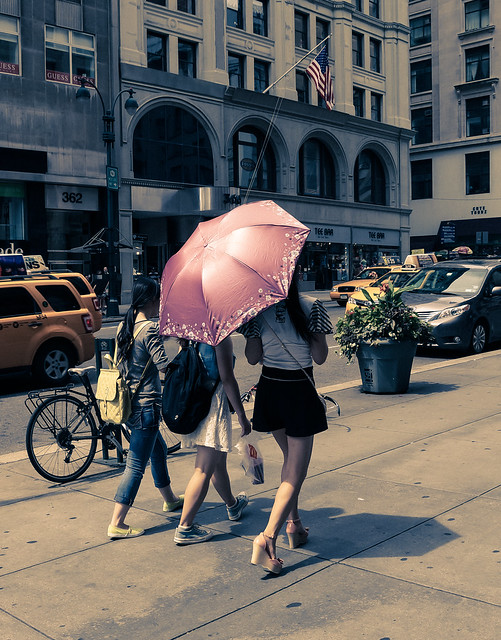backpack: (246, 293, 332, 537), (118, 302, 204, 537), (155, 317, 267, 454), (150, 261, 244, 413), (159, 331, 237, 509), (194, 341, 322, 435), (186, 331, 258, 498), (121, 333, 222, 450), (119, 316, 181, 478), (254, 303, 325, 434), (106, 289, 156, 425), (177, 338, 241, 437), (156, 337, 216, 434), (119, 284, 178, 378), (246, 336, 311, 420), (248, 303, 314, 382), (142, 328, 196, 418), (204, 336, 252, 435), (280, 299, 328, 394), (116, 319, 162, 397), (111, 301, 146, 378), (137, 326, 177, 388), (119, 316, 150, 368), (193, 342, 220, 394), (103, 317, 128, 371), (114, 310, 137, 366), (147, 334, 182, 370), (307, 317, 329, 367), (307, 299, 333, 336), (243, 443, 263, 486), (115, 322, 130, 363), (243, 337, 262, 366)
baseball bat: (238, 442, 263, 486)
bench: (14, 368, 192, 479), (90, 430, 175, 474), (330, 268, 419, 306), (114, 431, 169, 464)
bicycle: (2, 351, 247, 460), (57, 328, 214, 491), (102, 277, 177, 539), (23, 364, 165, 485), (10, 321, 115, 465), (74, 354, 185, 468), (40, 355, 128, 455), (22, 369, 89, 424), (331, 269, 412, 306), (89, 276, 108, 318), (96, 285, 108, 317)
boat: (0, 255, 50, 281)
bus: (156, 196, 309, 340), (1, 272, 101, 381), (391, 262, 499, 354), (433, 219, 499, 255), (0, 254, 50, 281), (401, 254, 434, 270)
car: (41, 336, 190, 498), (0, 292, 167, 405), (332, 254, 456, 387), (11, 297, 114, 442), (20, 353, 127, 479), (327, 250, 498, 319), (361, 265, 479, 360), (0, 274, 99, 385), (407, 261, 501, 355), (329, 277, 429, 361), (345, 270, 457, 324), (372, 250, 485, 299), (397, 269, 467, 346), (332, 260, 439, 309), (394, 264, 488, 317), (28, 268, 103, 333), (3, 254, 99, 299), (2, 276, 92, 320), (69, 278, 115, 358), (78, 310, 126, 373), (95, 298, 136, 370), (328, 268, 403, 306), (111, 296, 147, 375), (62, 275, 102, 335), (354, 254, 433, 281), (358, 269, 431, 298), (400, 244, 484, 269), (398, 264, 469, 293), (14, 261, 90, 288), (384, 269, 452, 298), (44, 271, 101, 301), (392, 252, 462, 276), (394, 257, 441, 291), (378, 260, 428, 291), (92, 319, 122, 368), (329, 279, 380, 307), (102, 314, 129, 366), (329, 268, 379, 296), (113, 310, 135, 368), (0, 255, 50, 280), (354, 273, 393, 303), (78, 287, 102, 333), (357, 264, 415, 283), (83, 275, 105, 325), (381, 253, 435, 273), (338, 287, 378, 312), (364, 270, 416, 289), (342, 267, 390, 287), (400, 250, 451, 268), (423, 247, 473, 265), (395, 270, 430, 291), (378, 258, 419, 275), (90, 278, 108, 315), (381, 264, 419, 281), (329, 288, 362, 307), (20, 256, 50, 276), (387, 271, 417, 291), (0, 256, 26, 279), (482, 264, 500, 297), (401, 254, 434, 270), (354, 267, 390, 280), (363, 269, 390, 286), (439, 246, 471, 260), (455, 245, 487, 259), (370, 255, 403, 268), (358, 263, 391, 276), (415, 254, 442, 269), (393, 256, 421, 270), (478, 243, 500, 259), (411, 252, 436, 265), (419, 251, 444, 264), (434, 250, 456, 262), (378, 253, 400, 265), (450, 246, 472, 257)
chair: (330, 282, 432, 396), (242, 442, 263, 486)
dog: (242, 442, 263, 486)
donut: (158, 202, 307, 343)
elephant: (335, 283, 433, 395)
fire hydrant: (10, 321, 115, 465), (335, 283, 431, 395)
handbag: (242, 288, 333, 561), (165, 314, 266, 539), (85, 326, 209, 491), (207, 324, 302, 459), (164, 334, 239, 487), (111, 337, 212, 443), (119, 316, 181, 478), (254, 311, 326, 445), (98, 308, 158, 457), (199, 349, 254, 500), (143, 353, 204, 472), (91, 366, 173, 452), (246, 365, 332, 437), (271, 332, 336, 425), (156, 335, 217, 433), (250, 308, 316, 393), (246, 336, 311, 420), (206, 335, 252, 441), (231, 336, 276, 444), (142, 328, 196, 418), (114, 321, 161, 424), (238, 303, 301, 373), (293, 296, 334, 402), (95, 319, 135, 426), (112, 293, 153, 385), (106, 412, 174, 467), (282, 321, 324, 410), (101, 431, 181, 476), (121, 314, 179, 376), (222, 369, 259, 464), (246, 351, 284, 434), (296, 289, 345, 351), (241, 328, 296, 383), (302, 336, 338, 420), (229, 392, 260, 488), (109, 314, 142, 404), (286, 302, 329, 368), (135, 325, 174, 391), (238, 328, 268, 404), (287, 361, 328, 416), (219, 353, 250, 420), (289, 293, 331, 342), (102, 333, 129, 404), (284, 340, 312, 406), (304, 297, 332, 362), (118, 431, 173, 463), (220, 379, 253, 431), (98, 363, 128, 420), (308, 366, 340, 417), (119, 316, 150, 368), (127, 321, 154, 379), (305, 327, 330, 383), (103, 317, 128, 371), (125, 345, 152, 395), (146, 333, 181, 370), (114, 310, 137, 366), (236, 330, 261, 377), (233, 440, 259, 485), (128, 313, 153, 356), (161, 430, 194, 460), (143, 433, 181, 459), (307, 299, 333, 336), (244, 443, 263, 486), (158, 420, 180, 456), (115, 322, 130, 363), (317, 392, 340, 418), (309, 333, 327, 366), (243, 336, 262, 367), (132, 319, 153, 343), (250, 454, 264, 487), (162, 437, 180, 457)
horse: (332, 281, 431, 394)
kite: (155, 200, 310, 344)
motorcycle: (49, 330, 196, 492), (20, 353, 127, 479), (3, 275, 101, 398), (328, 269, 404, 306), (450, 246, 472, 257)
person: (179, 212, 334, 519), (28, 262, 197, 516), (152, 234, 286, 479), (99, 342, 251, 526), (251, 276, 344, 567), (57, 328, 214, 491), (219, 290, 311, 561), (159, 198, 305, 350), (102, 273, 183, 543), (167, 319, 260, 542), (124, 308, 211, 517), (10, 321, 115, 465), (240, 259, 331, 420), (3, 275, 101, 398), (154, 325, 229, 475), (332, 281, 431, 394), (253, 313, 328, 459), (117, 334, 179, 498), (403, 258, 499, 360), (122, 289, 172, 435), (177, 338, 241, 437), (157, 335, 216, 428), (204, 338, 252, 439), (112, 293, 153, 385), (119, 316, 162, 403), (116, 277, 153, 346), (66, 277, 101, 335), (113, 311, 139, 376), (83, 275, 105, 325), (97, 272, 116, 317), (244, 443, 263, 486), (93, 268, 109, 311), (4, 256, 25, 280), (442, 271, 465, 291), (439, 246, 471, 260), (91, 266, 106, 294), (96, 285, 108, 317), (99, 289, 112, 317), (376, 280, 391, 303), (74, 69, 91, 88), (75, 76, 89, 99), (307, 261, 318, 290), (313, 260, 323, 291), (354, 260, 368, 278), (450, 246, 472, 257)
potted plant: (352, 265, 473, 377), (334, 283, 432, 394), (320, 268, 404, 377), (387, 287, 439, 377), (331, 285, 377, 372), (352, 332, 416, 393), (334, 312, 358, 363)
skateboard: (84, 431, 168, 472), (245, 443, 263, 485)
stop sign: (162, 194, 307, 339)
suitcase: (159, 336, 221, 437), (112, 429, 175, 464), (243, 337, 262, 366)
surfboard: (243, 444, 263, 486)
tennis racket: (26, 347, 198, 476), (238, 442, 263, 486)
traffic light: (123, 91, 137, 115)
train: (155, 200, 310, 344)
truck: (332, 254, 456, 387), (1, 272, 101, 381), (399, 262, 500, 355), (334, 258, 454, 318), (41, 270, 102, 332), (328, 267, 421, 306), (2, 255, 94, 289), (352, 262, 437, 294), (433, 219, 500, 254), (328, 277, 380, 307), (0, 255, 50, 281), (386, 255, 435, 275), (20, 256, 50, 276), (0, 256, 26, 279), (401, 254, 434, 270)
tv: (165, 192, 313, 332), (331, 287, 436, 396)
umbrella: (161, 192, 312, 338), (167, 252, 333, 379), (334, 278, 440, 367), (233, 440, 259, 485), (243, 443, 263, 486)
vase: (354, 342, 415, 395)
